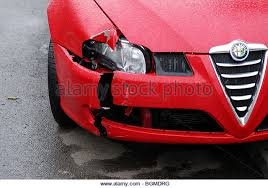Dent: (49, 29, 154, 138)
